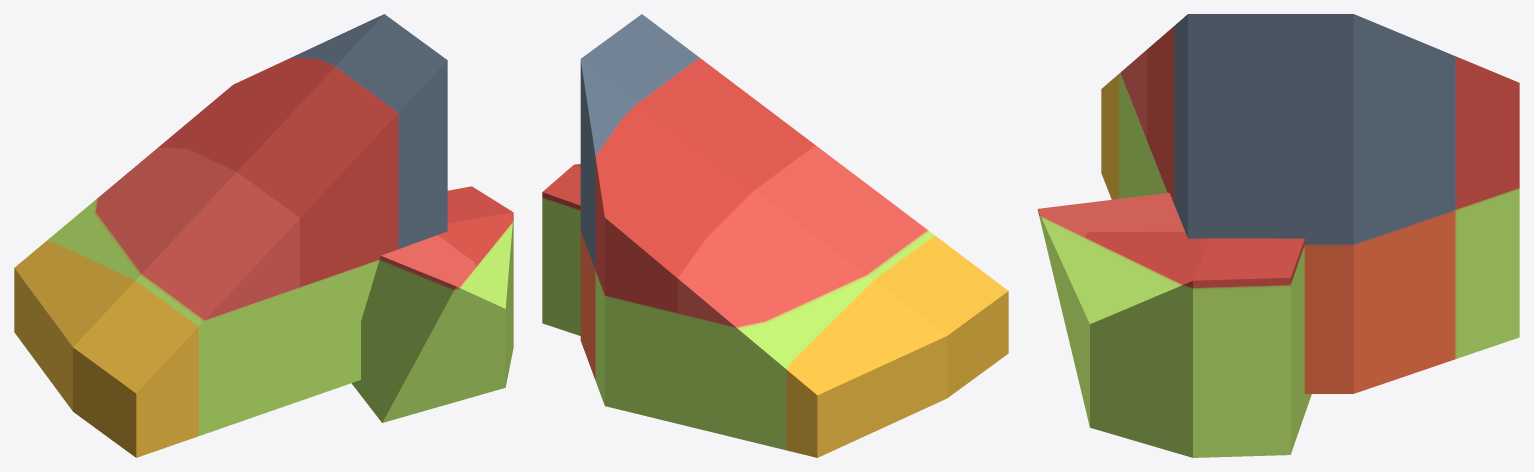
File: rock_17.fbx
3 views of the same model, side by side, from view 1: azimuth 30°, elevation 25°; view 2: azimuth 150°, elevation 25°; view 3: azimuth 270°, elevation 25° (orthographic). The views are drawn at different scales.
Visible parts, largest first — view 1: rock_17; view 2: rock_17; view 3: rock_17.
Boxes of the visible parts, <box> form: rock_17: <box>14,14,513,457</box>; rock_17: <box>542,14,1008,457</box>; rock_17: <box>1037,14,1519,457</box>.
Size of the model in its own units: 118 by 83.51 by 91.1.
